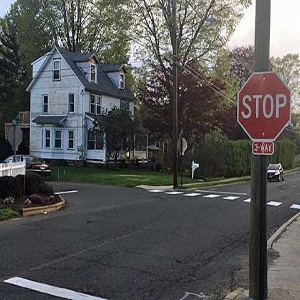stop: (237, 72, 290, 141)
